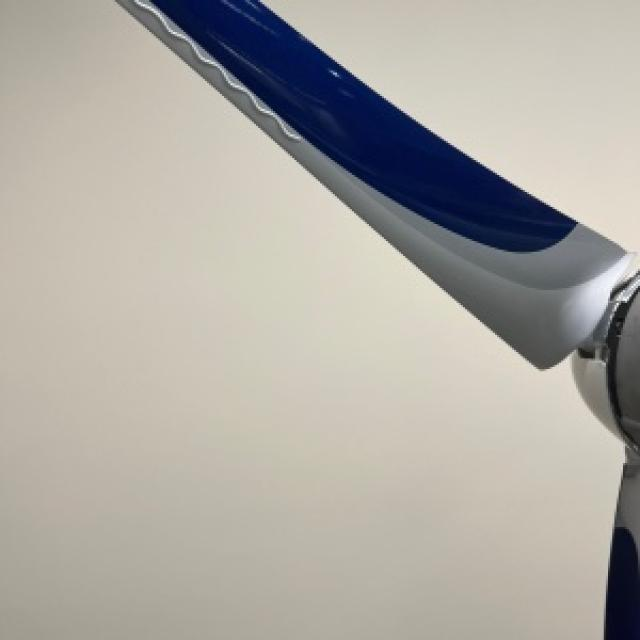healthy: (115, 0, 638, 638), (262, 0, 638, 250)
